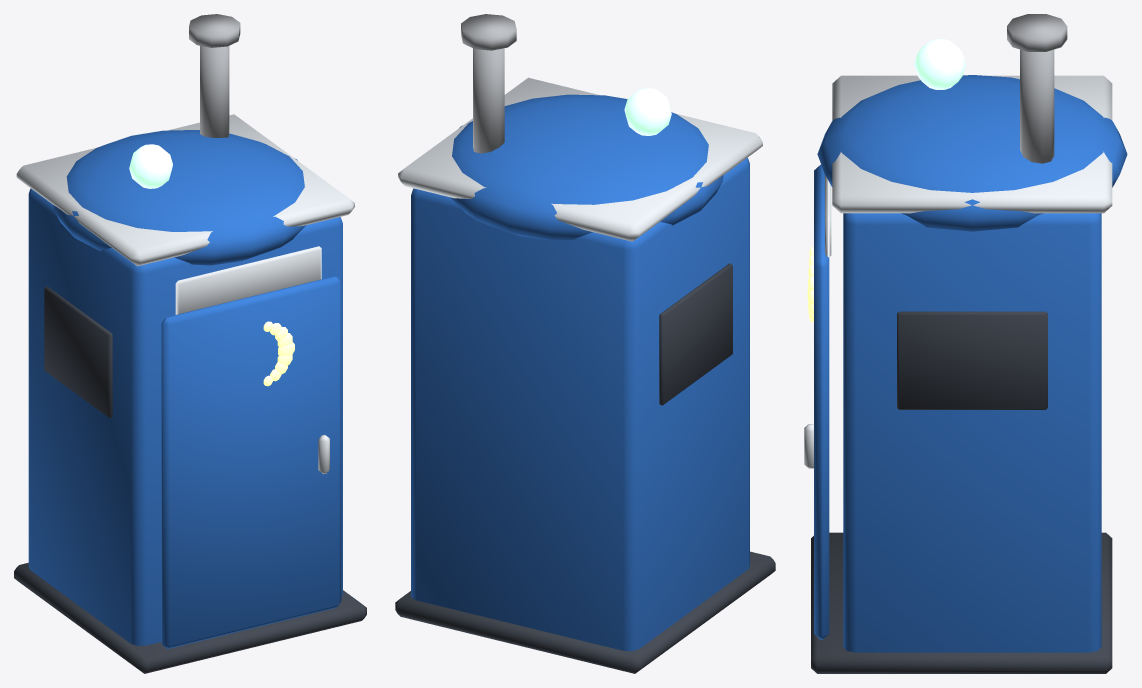
File: eggs.glb
3 renders of one model, left to right at view 1: azimuth 30°, elevation 25°; view 2: azimuth 150°, elevation 25°; view 3: azimuth 270°, elevation 25°, orthographic. The views are drawn at different scales.
Visible parts, largest first — view 1: EG_Klo, EG_KloDoor; view 2: EG_Klo; view 3: EG_Klo, EG_KloDoor.
Boxes of the visible parts, <box> form: EG_Klo: <box>14,14,366,673</box>; EG_KloDoor: <box>161,276,341,648</box>; EG_Klo: <box>395,14,775,673</box>; EG_Klo: <box>811,14,1127,673</box>; EG_KloDoor: <box>804,164,829,639</box>.
Bounding box in the file's own units: 1.44 × 3.17 × 1.5.
